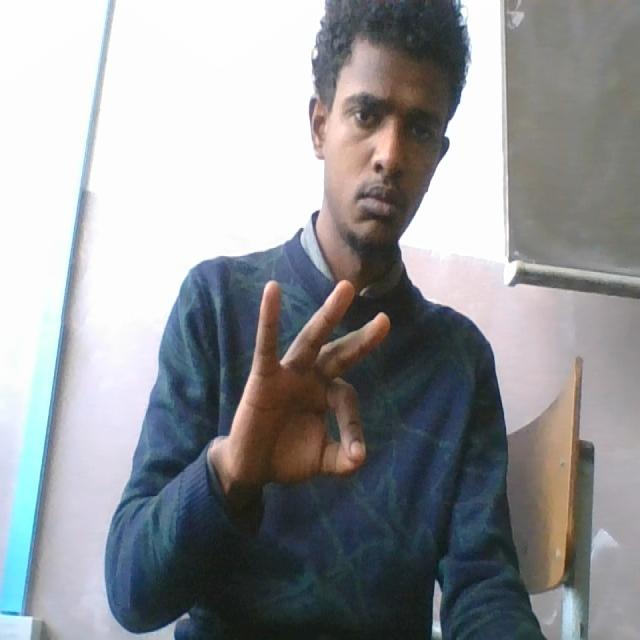wet: (220, 276, 397, 490)
